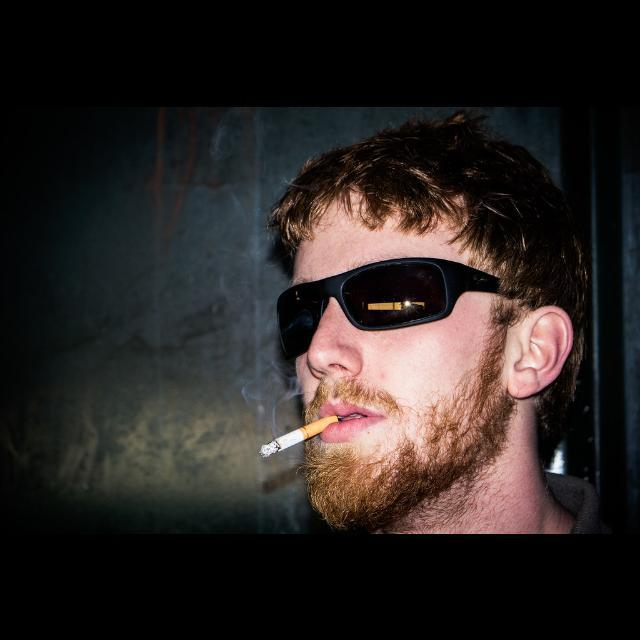rokok: (250, 408, 344, 458)
